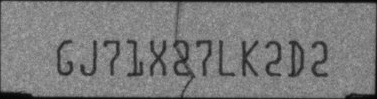1: (124, 37, 145, 77)
2: (310, 39, 329, 76), (173, 38, 191, 75), (265, 39, 282, 77)
7: (103, 39, 121, 76), (196, 39, 213, 75)
D: (287, 39, 305, 79)
G: (55, 39, 74, 75)
J: (79, 39, 97, 76)
K: (240, 38, 259, 77)
L: (218, 39, 236, 77)
X: (148, 37, 167, 77)
